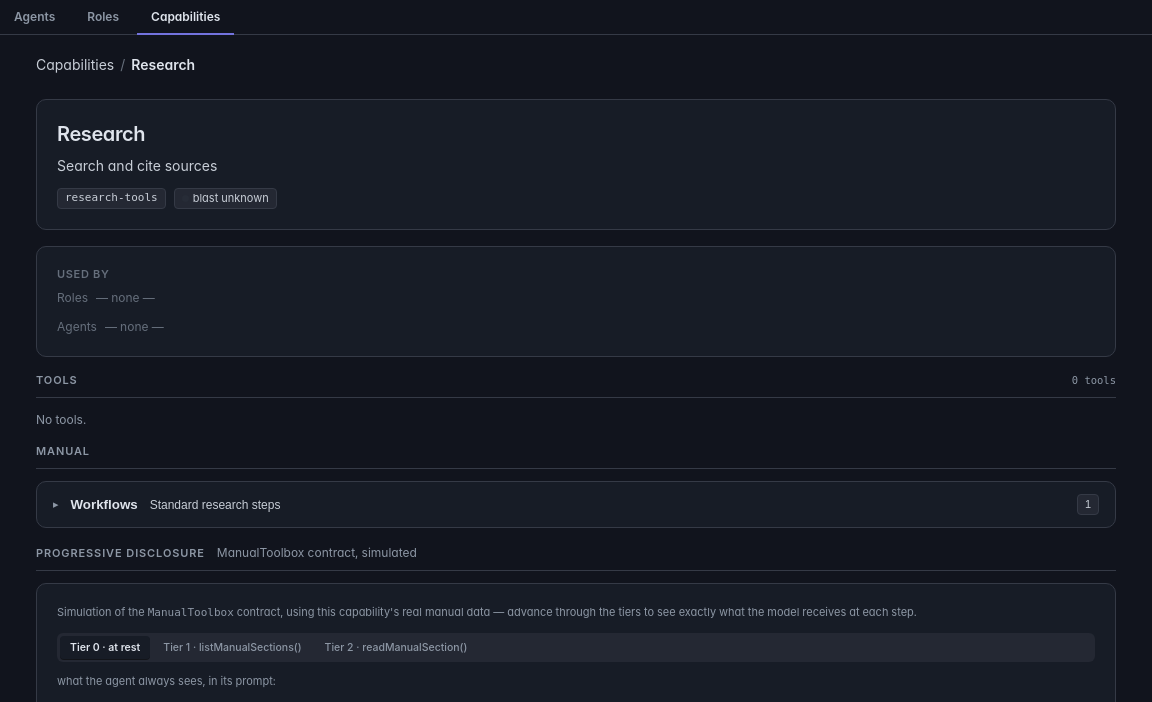
it: CapabilitiesPage detail — manual TOC expand › expands a section's row on click to reveal its full content
This screenshot has width=1152, height=702.
Expected: the text "Workflows" is shown, [70,497,138,512]
Expected: the text "search first, then cite" is not shown
Click the button "▸ Workflows Standard research steps 1" at (104, 505), box [37,482,1115,527]
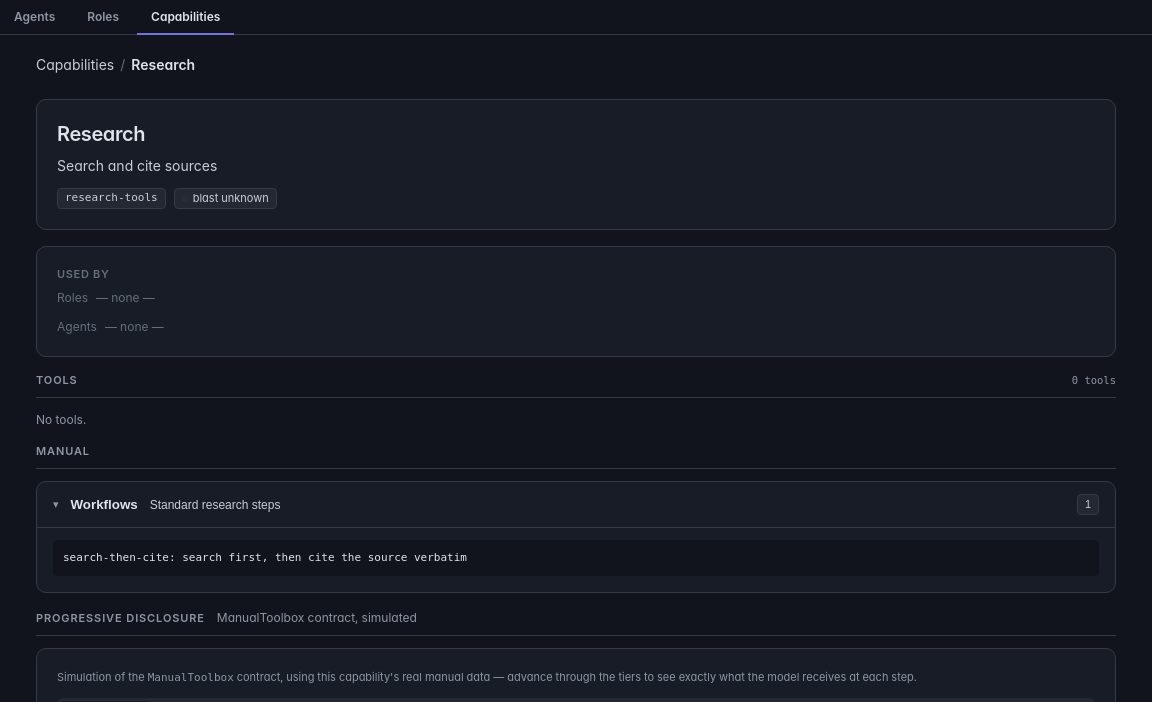
Expected: the text "search first, then cite" is shown, [63,551,467,564]
